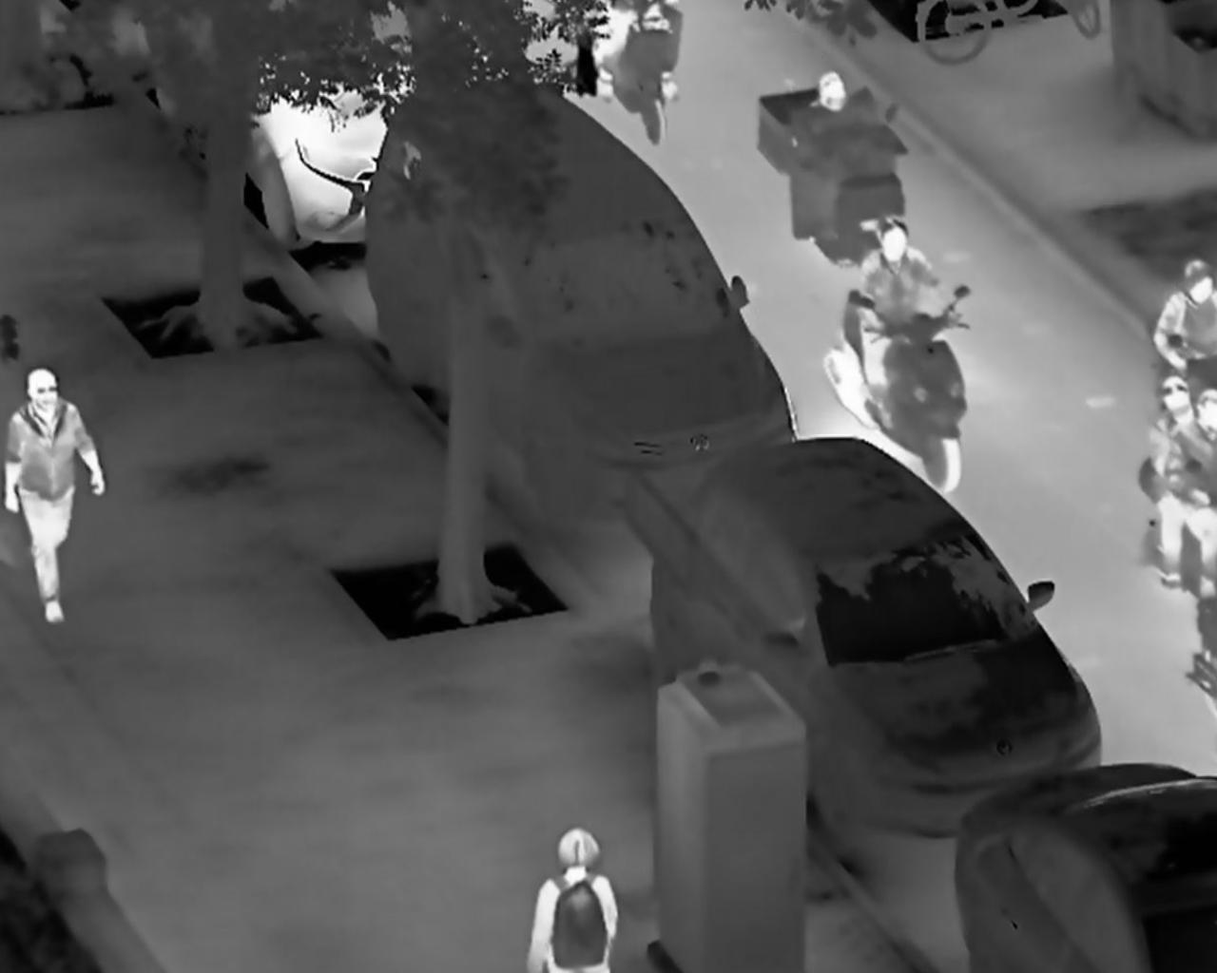person: (2, 366, 106, 627), (854, 210, 961, 436), (524, 826, 621, 973), (789, 67, 909, 181), (1162, 382, 1216, 605), (587, 6, 689, 107), (1146, 247, 1217, 375), (1136, 376, 1200, 498)
